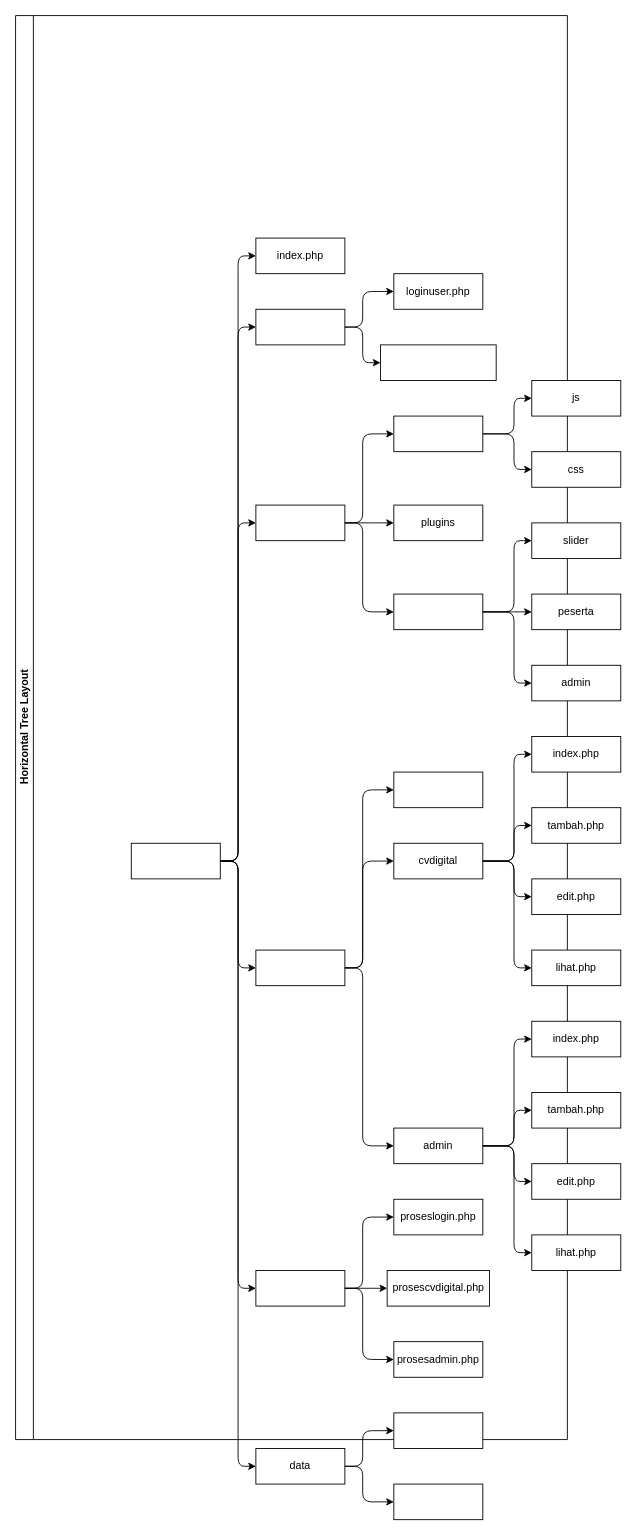
This 636x1535 diagram has some shape labels left out. The centre of each missing label's shape, as x and y in pixels:
assets: point 300,522
auth: point 300,326
CV DIGITAL: point 175,860
dashboard.php: point 438,789
dataadmin.json: point 438,1501
datapeserta.json: point 438,1430
dist: point 438,433
image: point 438,611
pages: point 300,967
proses: point 300,1288
registrasipeserta.php: point 438,362
